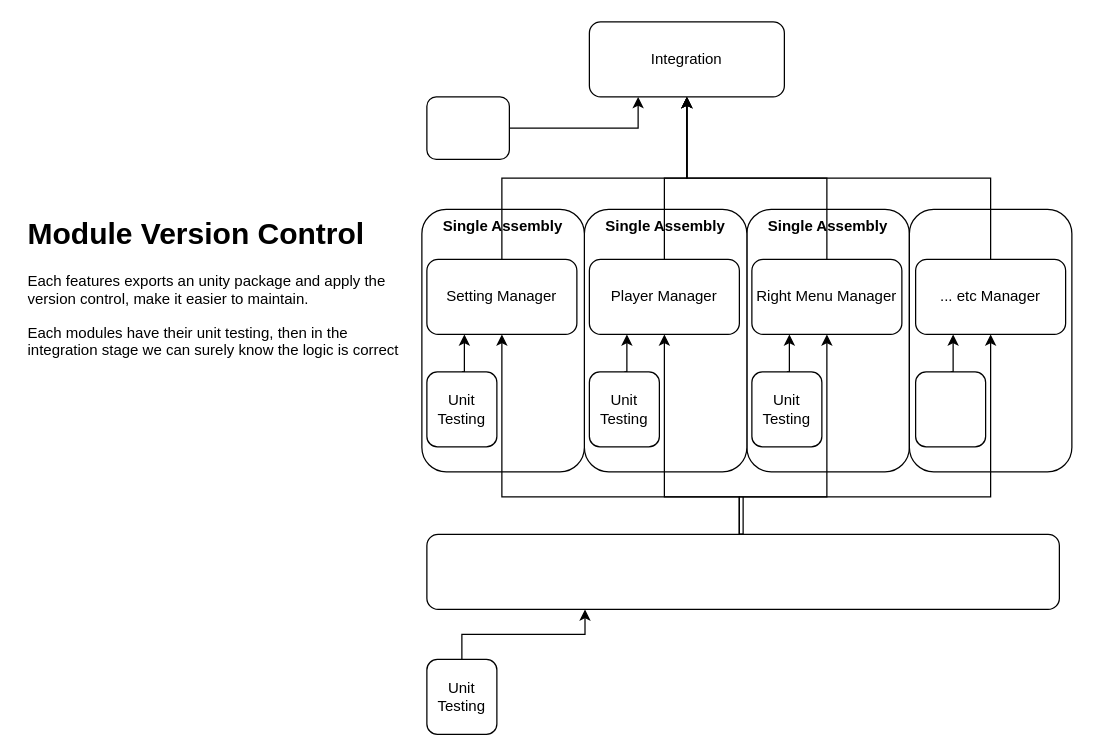
This 1094x756 diagram has some shape labels left out. Each missing label, with the box of its shape:
... Unit Testing: (914, 371, 986, 447)
Assemblies...: (908, 208, 1072, 472)
Core Library: (426, 533, 1059, 609)
Integration Test: (426, 96, 509, 159)
